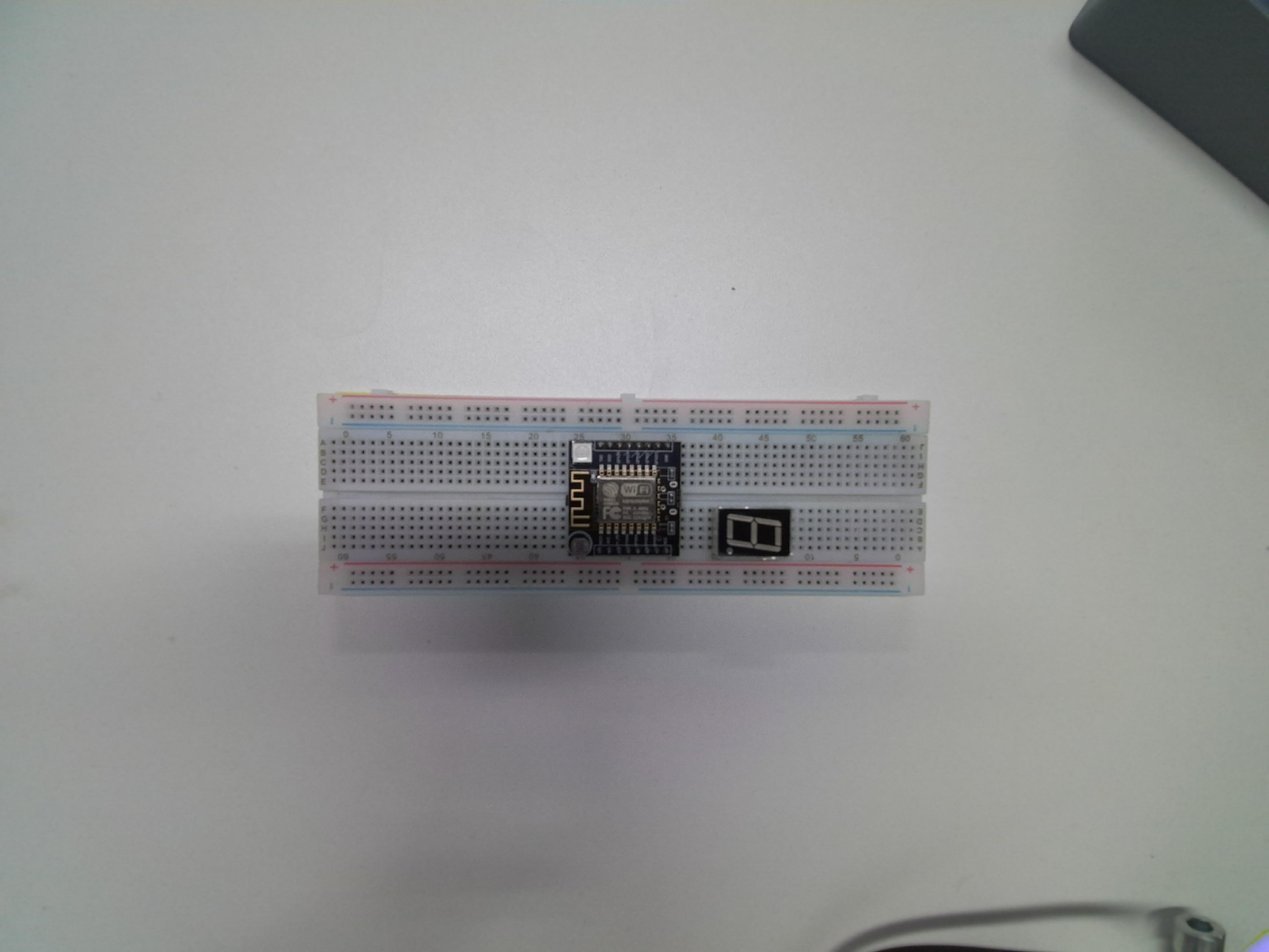base: (312, 391, 931, 599)
digit-board: (716, 506, 792, 560)
esp: (566, 439, 684, 561)
